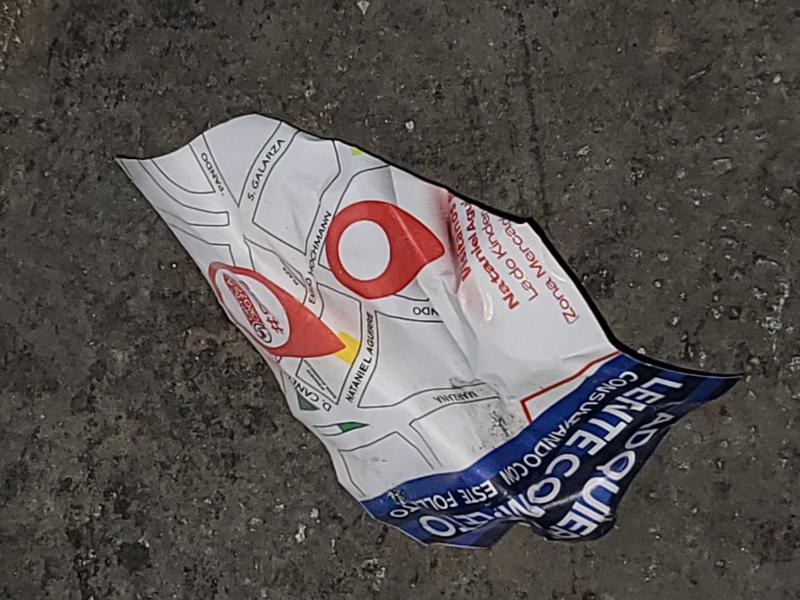papel: (115, 115, 742, 551)
